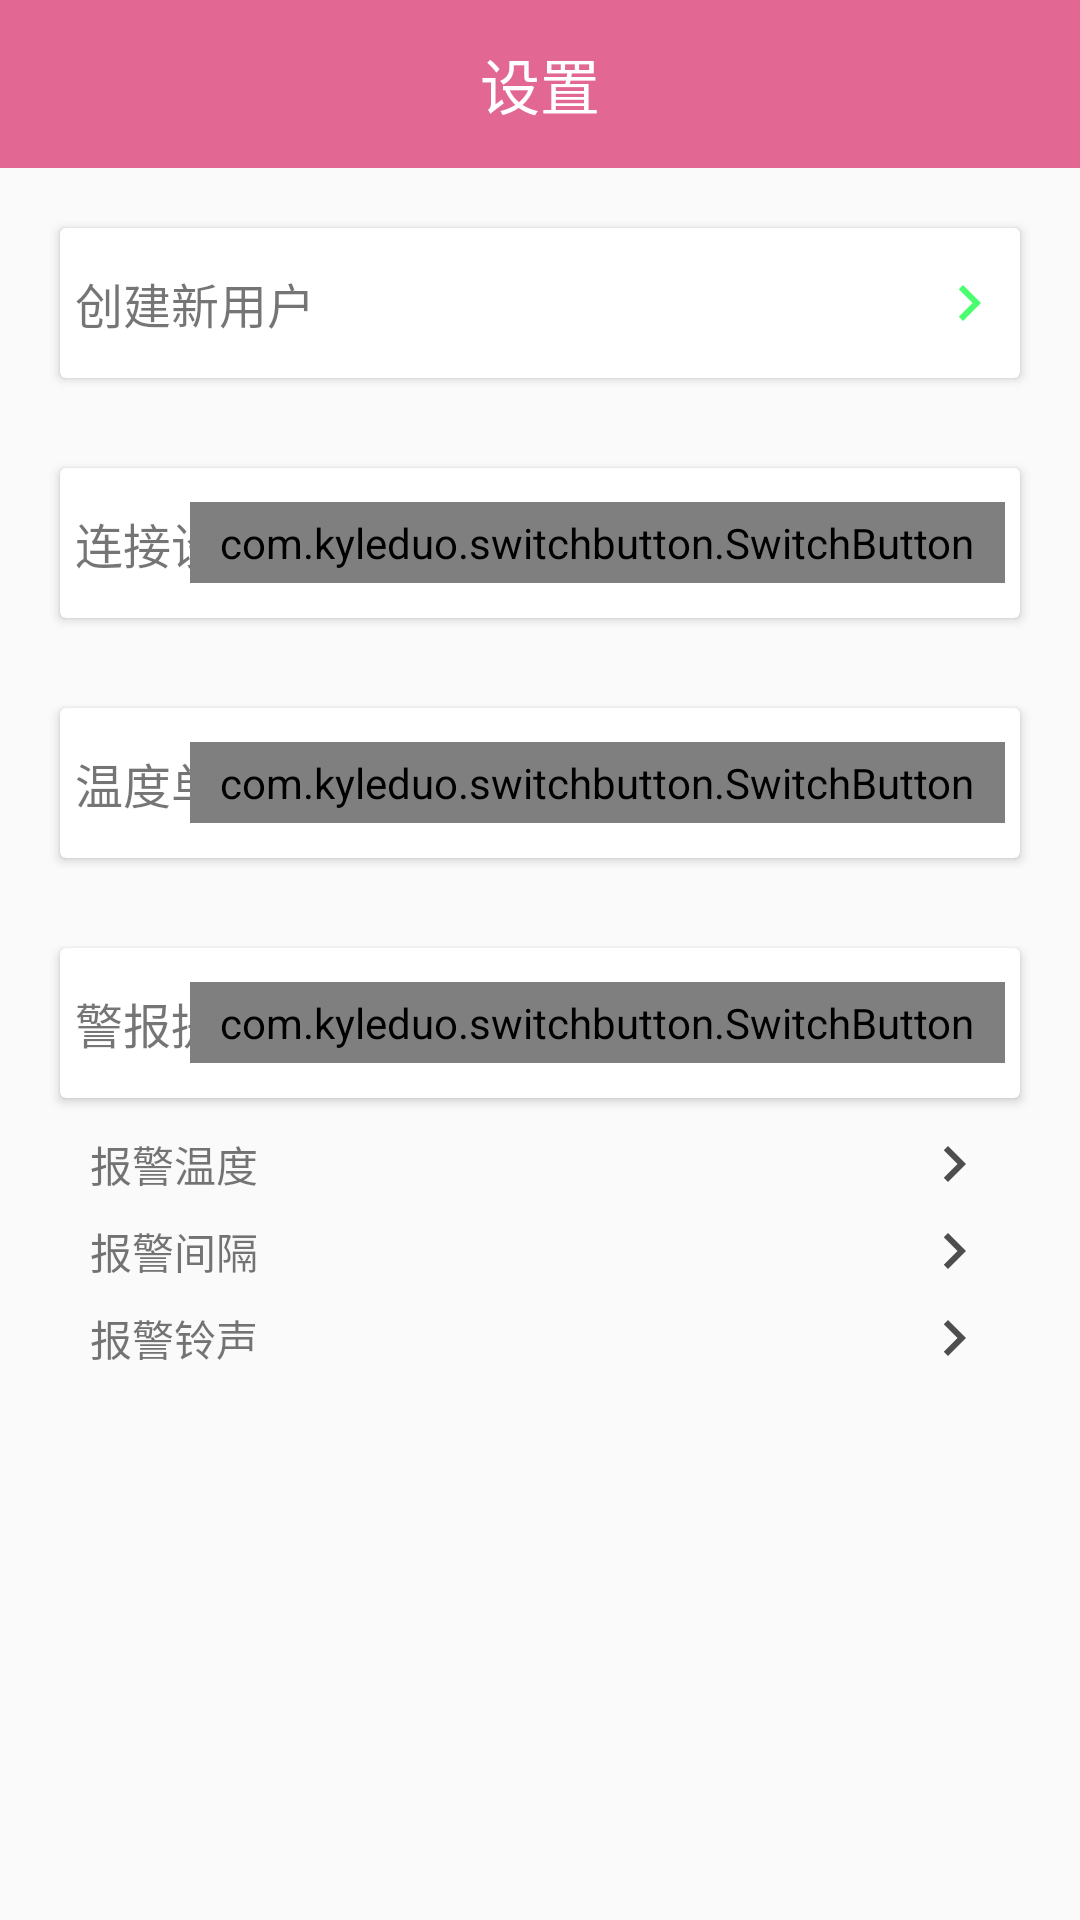

Named icons in this screenshot (1080 x 1920) and their centers, [x,y]:
next right: [970,303]
